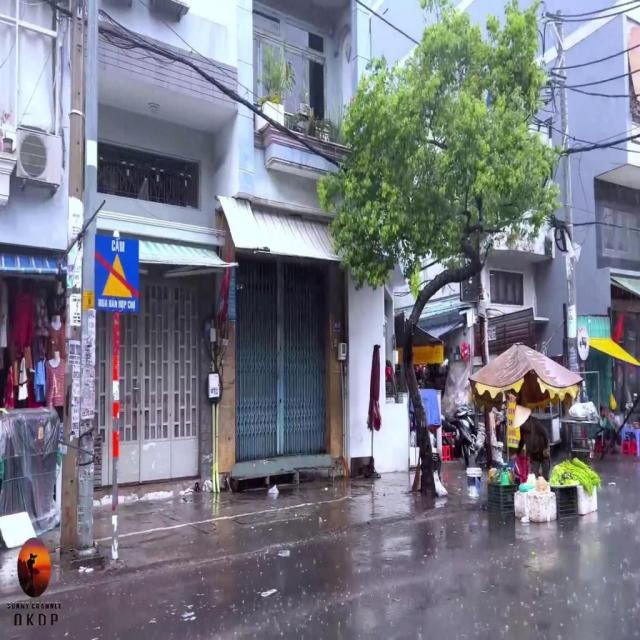cam_o_to_tai: (577, 326, 590, 361)
khac: (94, 235, 139, 312)
